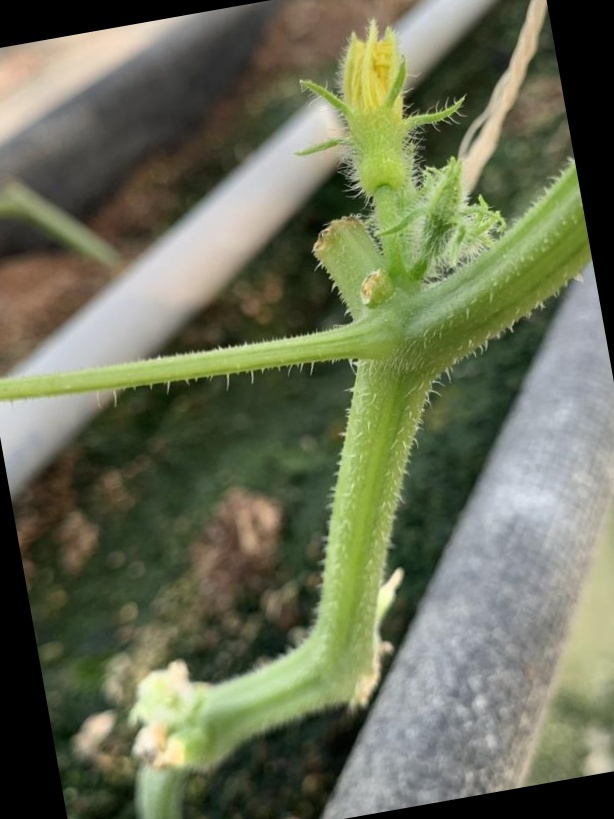bud: (305, 8, 443, 204)
